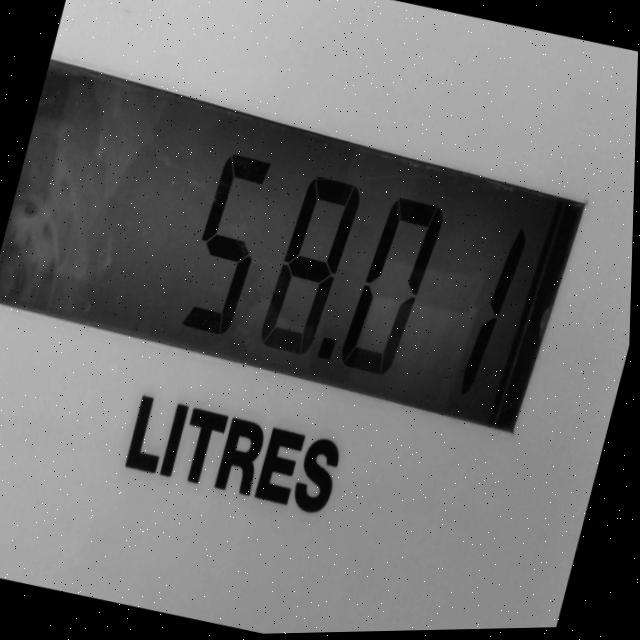.: (307, 328, 348, 388)
0: (327, 168, 455, 419)
1: (430, 195, 543, 401)
5: (153, 118, 297, 359)
8: (243, 138, 374, 379)
